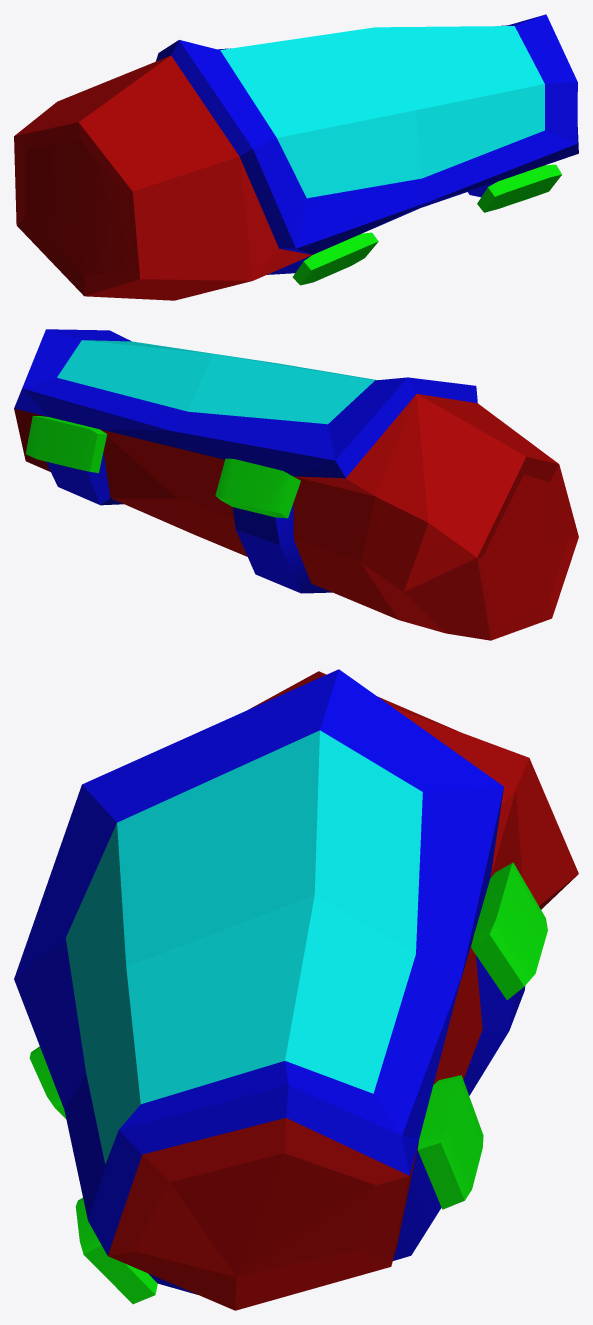
Rendered from Chr_ArmLowerLeft_Male_Static_08.fbx.
3 views of the same model, one above another, from view 1: azimuth 30°, elevation 25°; view 2: azimuth 150°, elevation 25°; view 3: azimuth 270°, elevation 25° (orthographic). The views are drawn at different scales.
Visible parts, largest first — view 1: Chr_ArmLowerLeft_Male_08; view 2: Chr_ArmLowerLeft_Male_08; view 3: Chr_ArmLowerLeft_Male_08.
Boxes of the visible parts, x1=… form: Chr_ArmLowerLeft_Male_08: x1=14, y1=14, x2=578, y2=300; Chr_ArmLowerLeft_Male_08: x1=14, y1=329, x2=578, y2=640; Chr_ArmLowerLeft_Male_08: x1=14, y1=669, x2=578, y2=1310.
Size of the model in its own units: 29.09 by 13.74 by 15.93.
